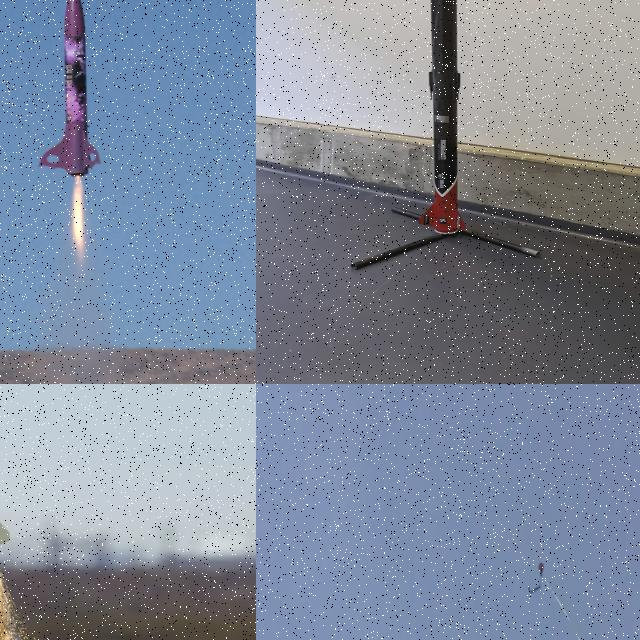Rocket: (37, 0, 103, 177), (418, 0, 466, 234), (0, 388, 12, 550)
